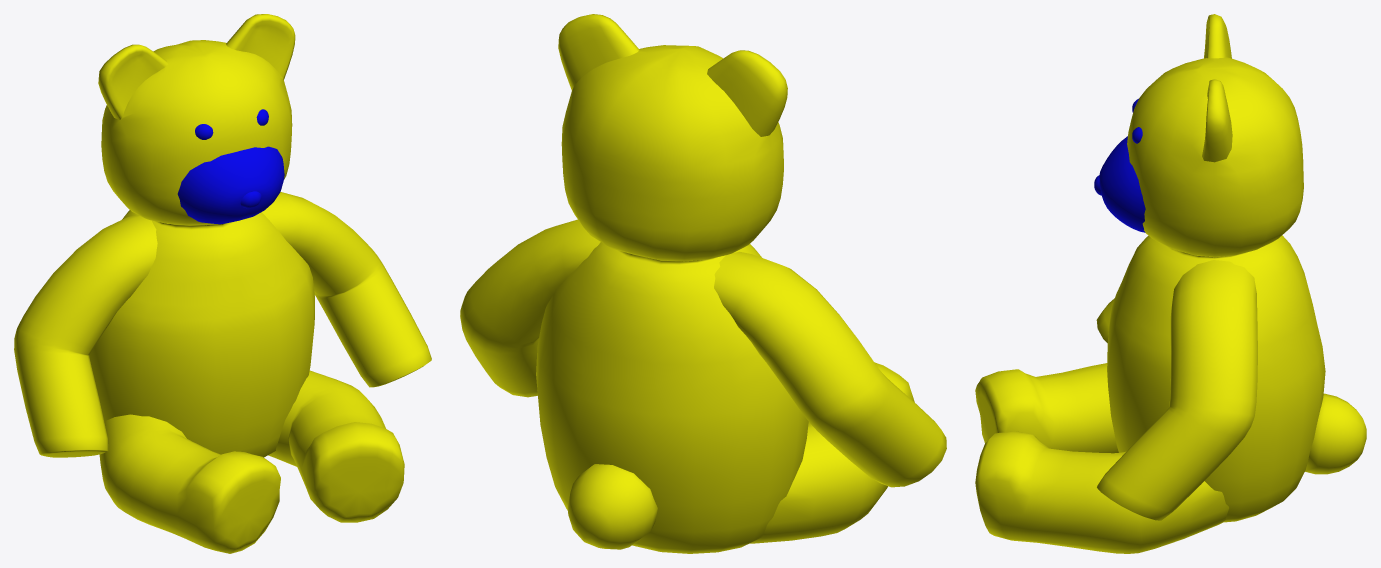
File: TeddyBear.fbx
3 renders of one model, left to right at view 1: azimuth 30°, elevation 25°; view 2: azimuth 150°, elevation 25°; view 3: azimuth 270°, elevation 25°, orthographic. The views are drawn at different scales.
Visible parts, largest first — view 1: polySurface8, polySurface14, polySurface27, polySurface15, polySurface28, polySurface12, polySurface9; view 2: polySurface8, polySurface14, polySurface15, polySurface27, polySurface9, polySurface6; view 3: polySurface8, polySurface15, polySurface28, polySurface27, polySurface6, polySurface9, polySurface12.
Part boxes in pixels (x1,y1,x2,y2): polySurface8: (89,40,314,457); polySurface14: (14,215,157,457); polySurface27: (99,414,280,553); polySurface15: (262,192,431,387); polySurface28: (268,370,404,522); polySurface12: (177,146,284,224); polySurface9: (98,14,295,119); polySurface8: (536,45,808,553); polySurface14: (714,251,946,487); polySurface15: (460,219,600,397); polySurface27: (750,362,914,543); polySurface9: (558,14,787,136); polySurface6: (567,464,657,549); polySurface8: (1107,57,1325,522); polySurface15: (1097,260,1257,520); polySurface28: (975,431,1228,553); polySurface27: (975,363,1118,453); polySurface6: (1305,393,1366,474); polySurface9: (1202,14,1232,162); polySurface12: (1099,136,1145,232).
Bounding box in the file's own units: 4.61 × 4.96 × 3.87.
